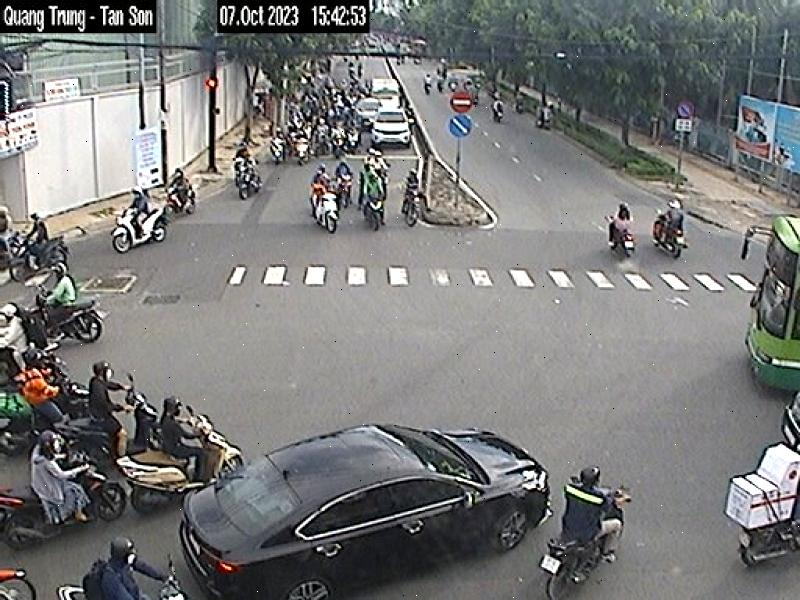bus: (740, 209, 800, 390)
car: (183, 404, 553, 590), (374, 104, 412, 148)
motorcycle: (121, 414, 253, 512), (532, 481, 634, 600), (0, 463, 120, 550), (66, 392, 152, 476), (1, 354, 69, 456), (57, 574, 212, 600), (29, 296, 108, 344), (110, 206, 176, 257), (14, 230, 70, 289), (596, 216, 649, 264), (304, 190, 360, 235), (649, 217, 688, 263), (2, 560, 43, 600), (401, 184, 429, 231), (362, 186, 390, 231), (227, 165, 270, 194)
